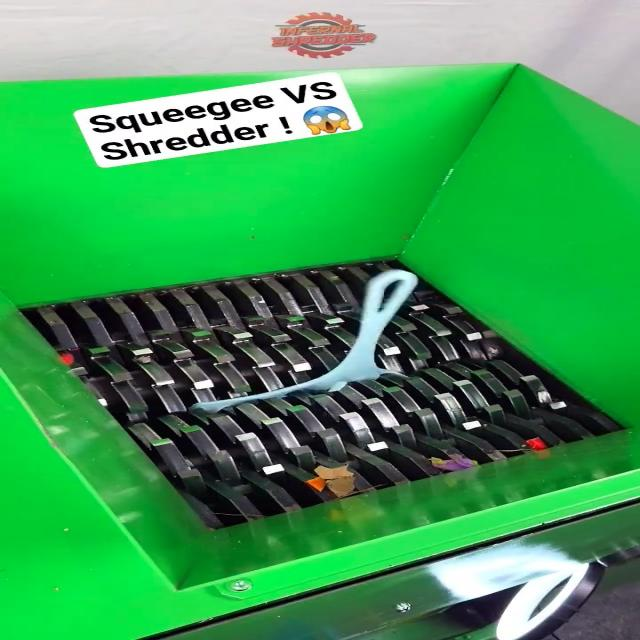Broyeur: (2, 237, 640, 545)
